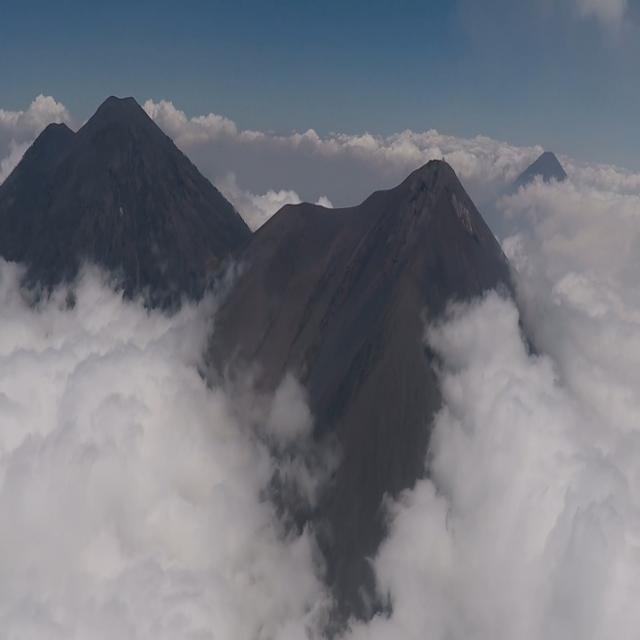Summit: (362, 154, 490, 236)
